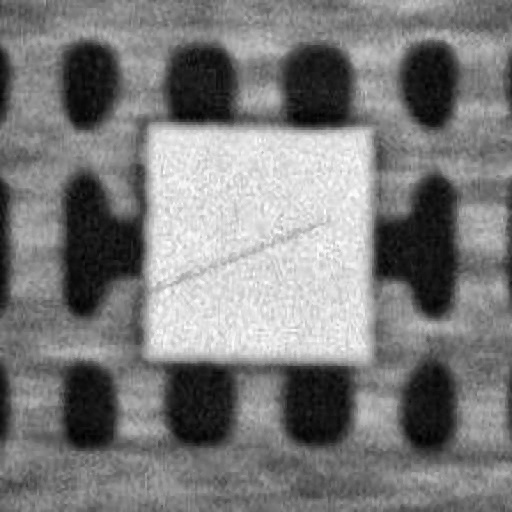DIE_CRACK: (220, 145, 488, 193)
